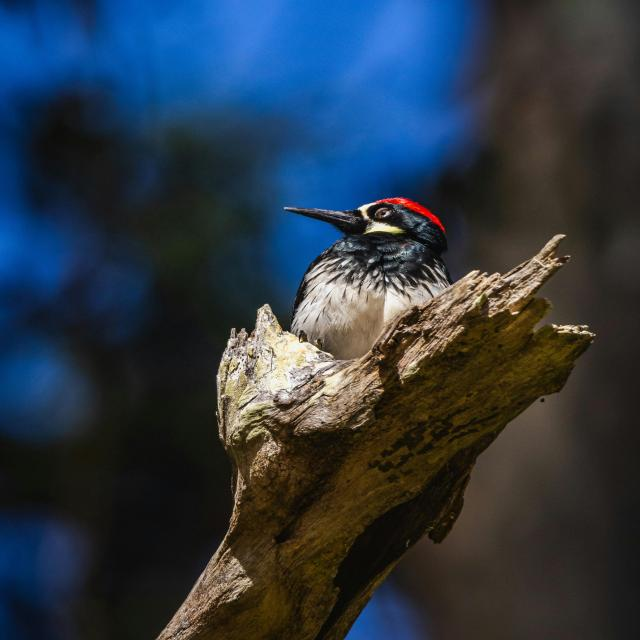Woodpecker: (256, 185, 478, 368)
